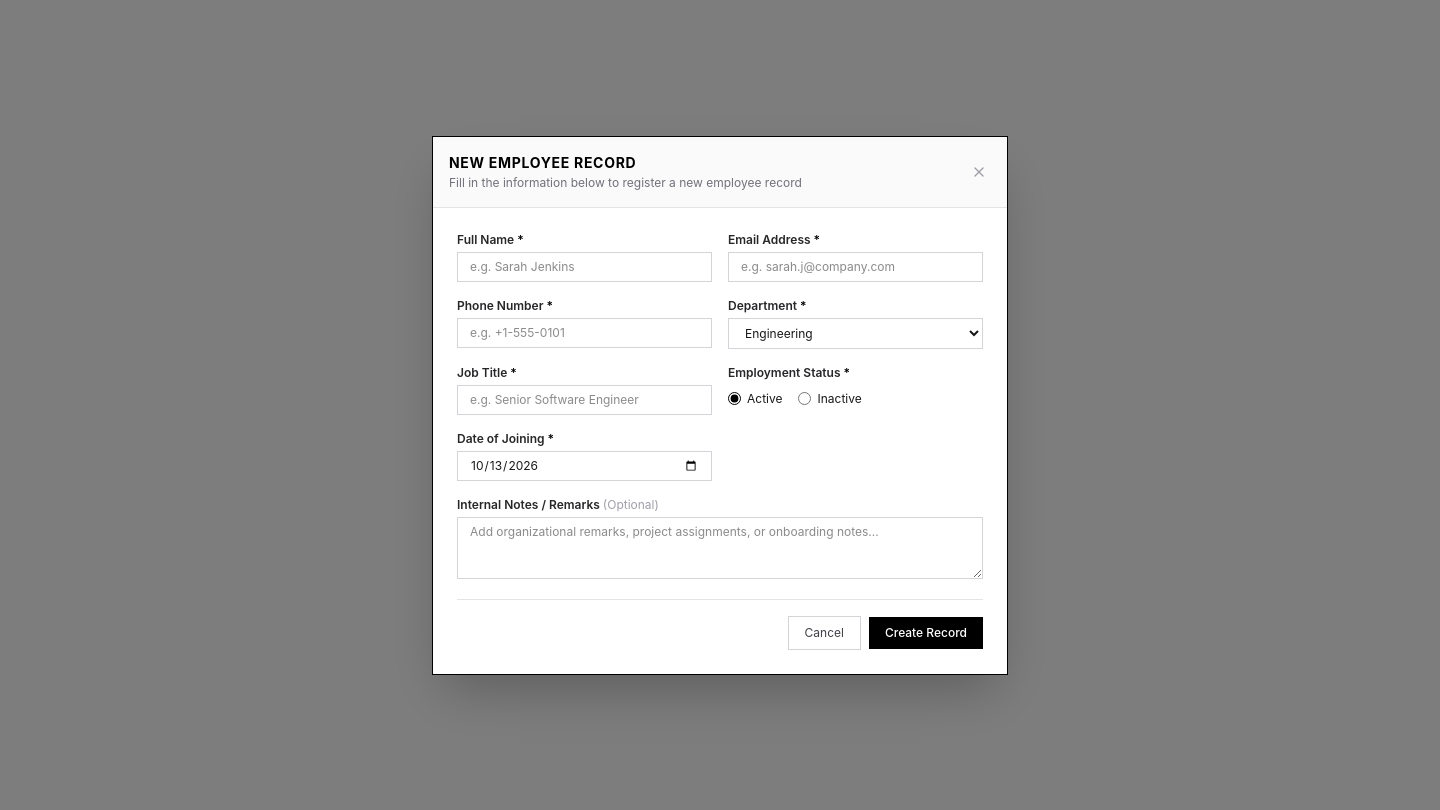
Test case: EmployeeFormModal Validation › validates email format properly
Type "invalid-email-string" into the field with placeholder "e.g. sarah.j@company.com" at point(856, 266), box 728,252 -> 983,282
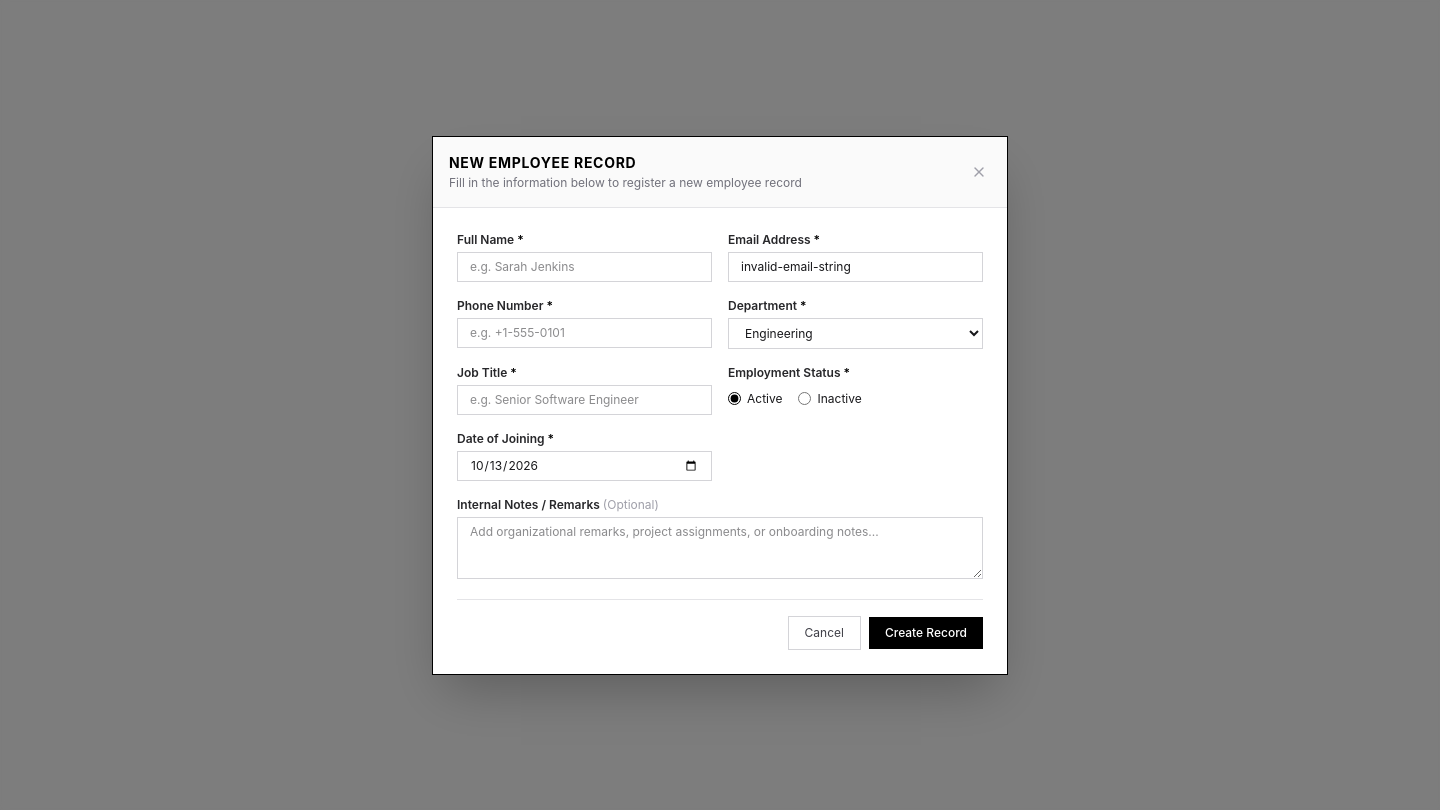
Click the button "Create Record" at point(926, 632), box 869,616 -> 983,648
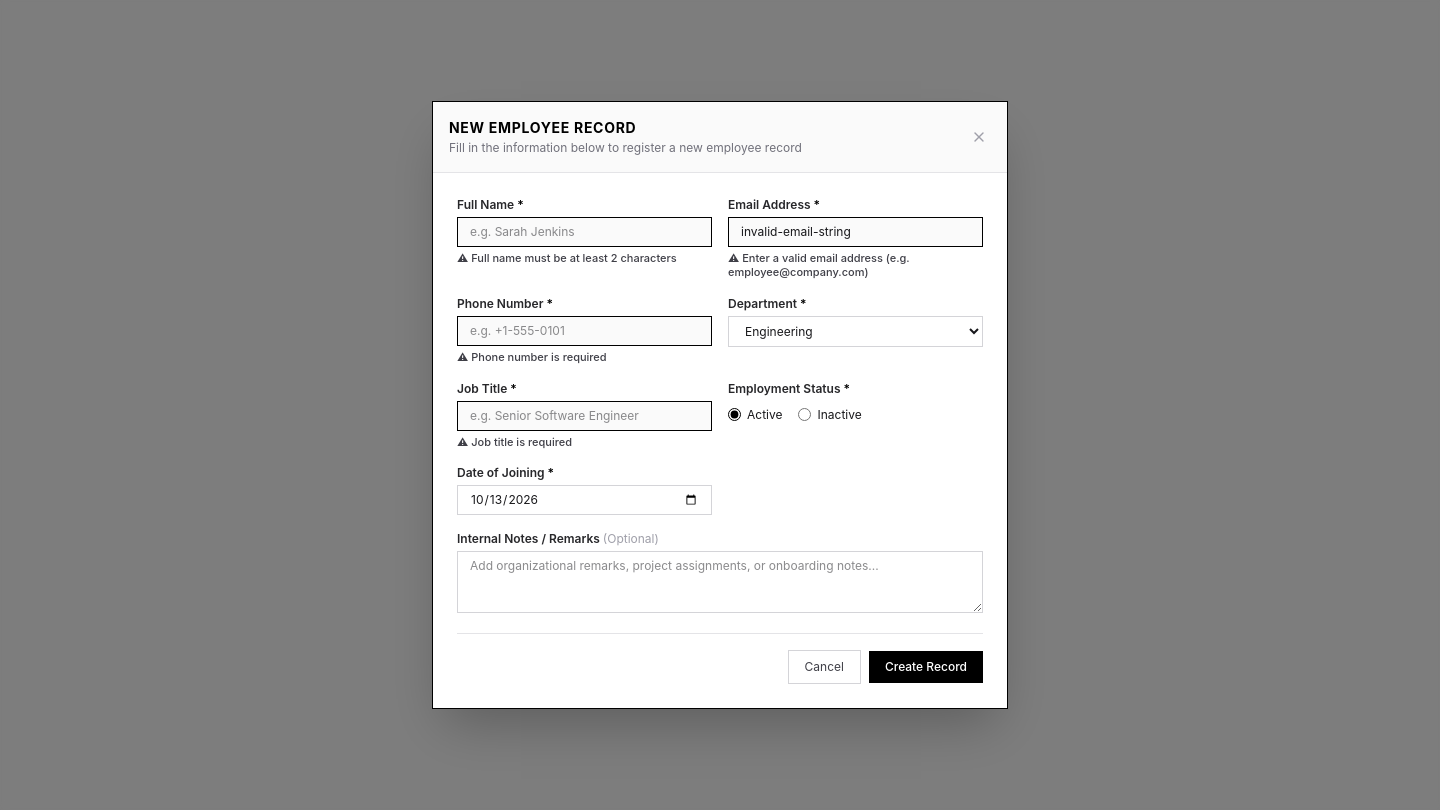
expect the text "⚠ Enter a valid email address (e.g. employee@company.com)" is shown: met, box 728,251 -> 910,279
